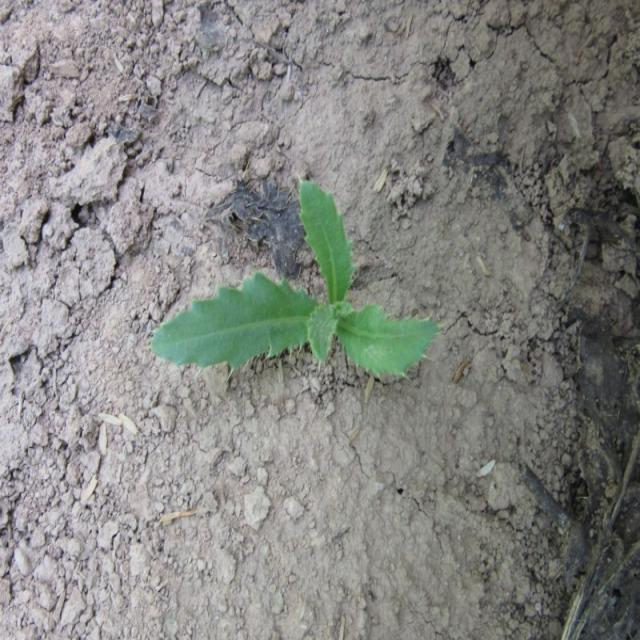field_thistle: (126, 162, 431, 420)
